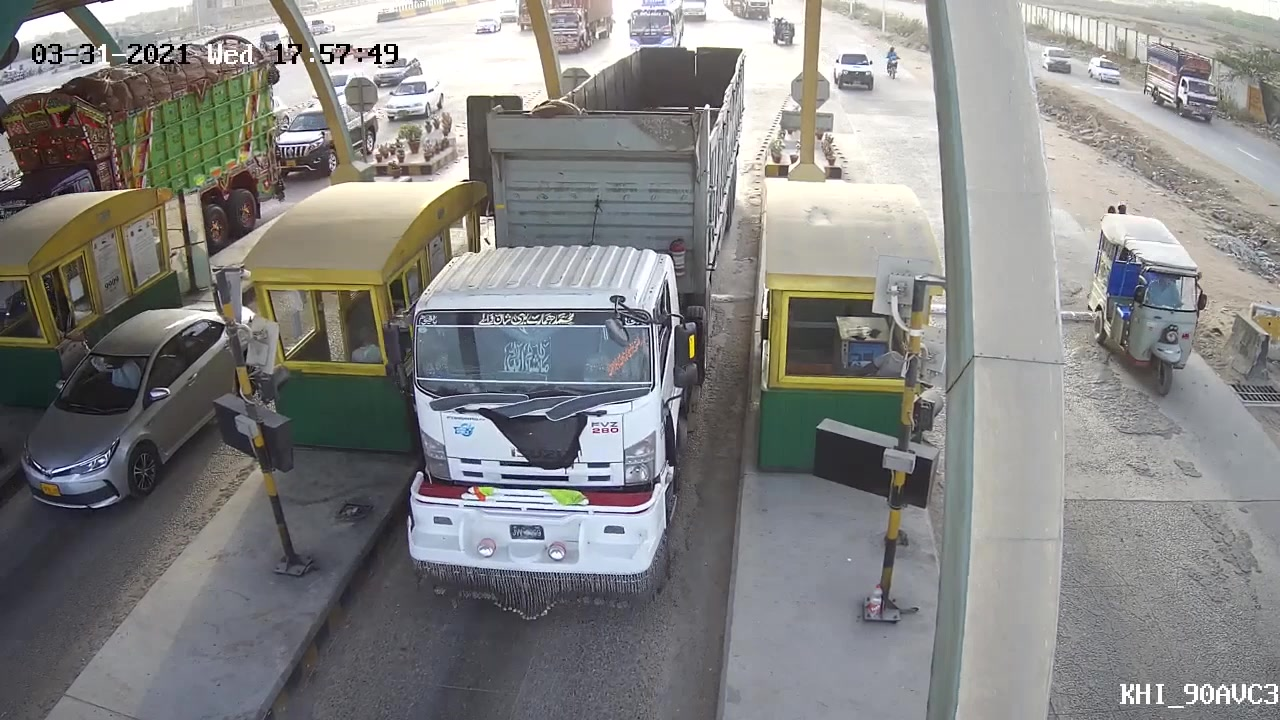F6: (403, 41, 749, 605)
